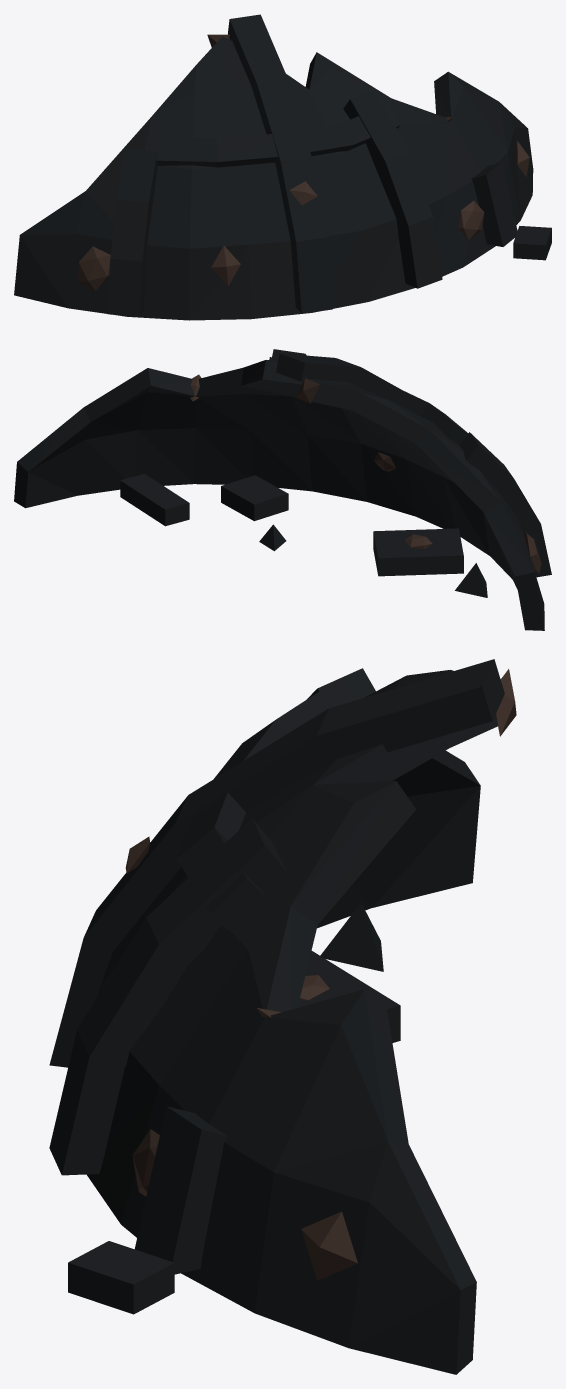
Rendered from env-ruin-dome-shard.glb.
3 views of the same model, one above another, from view 1: azimuth 30°, elevation 25°; view 2: azimuth 150°, elevation 25°; view 3: azimuth 270°, elevation 25° (orthographic). The views are drawn at different scales.
Parts seen in each view (by area): view 1: shell, rib_b, rib_d, rib_a, band, rib_c, chunk_c, coral_01, coral_03, coral_02; view 2: shell, chunk_a, rib_a, rib_b, rib_fallen, chunk_b, band, shard_a, shard_b, coral_05, coral_01; view 3: shell, rib_b, rib_d, rib_c, band, chunk_c, coral_04, shard_a, chunk_a, coral_03.
Boxes of the visible parts, bbox=[...] form: shell: bbox=[14, 36, 533, 320]; rib_b: bbox=[228, 14, 332, 313]; rib_d: bbox=[343, 90, 442, 288]; rib_a: bbox=[108, 148, 157, 317]; band: bbox=[156, 104, 400, 167]; rib_c: bbox=[471, 162, 517, 246]; chunk_c: bbox=[513, 226, 551, 260]; coral_01: bbox=[78, 246, 110, 291]; coral_03: bbox=[458, 200, 484, 239]; coral_02: bbox=[211, 245, 240, 286]; shell: bbox=[14, 360, 544, 630]; chunk_a: bbox=[373, 528, 463, 576]; rib_a: bbox=[459, 432, 551, 577]; rib_b: bbox=[276, 353, 399, 398]; rib_fallen: bbox=[120, 473, 189, 526]; chunk_b: bbox=[221, 475, 288, 521]; band: bbox=[269, 357, 468, 444]; shard_a: bbox=[455, 563, 487, 597]; shard_b: bbox=[259, 524, 286, 551]; coral_05: bbox=[295, 378, 320, 403]; coral_01: bbox=[524, 532, 541, 573]; shell: bbox=[86, 670, 511, 1374]; rib_b: bbox=[49, 659, 504, 1067]; rib_d: bbox=[49, 818, 286, 1175]; rib_c: bbox=[135, 1106, 227, 1274]; band: bbox=[177, 678, 353, 930]; chunk_c: bbox=[68, 1241, 174, 1314]; coral_04: bbox=[301, 1211, 357, 1280]; shard_a: bbox=[320, 903, 383, 971]; chunk_a: bbox=[297, 950, 400, 1042]; coral_03: bbox=[132, 1129, 159, 1196].
Bounding box in the file's own units: 40 × 15.78 × 15.58.
